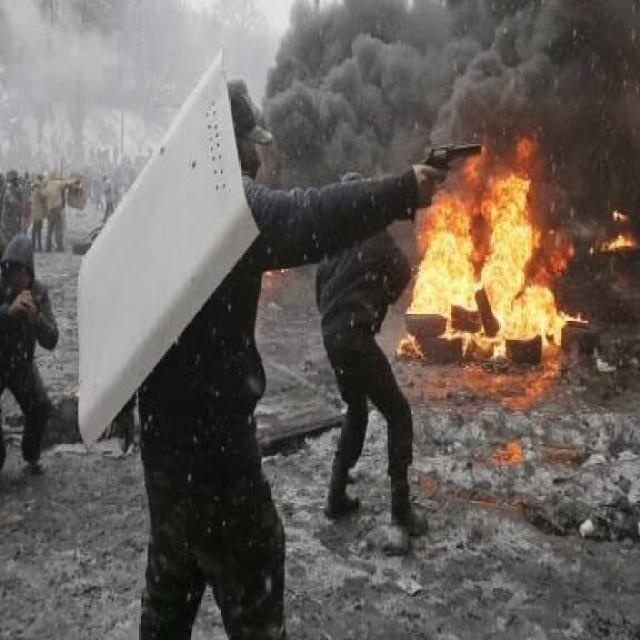fire: (479, 199, 562, 339), (406, 207, 478, 314)
